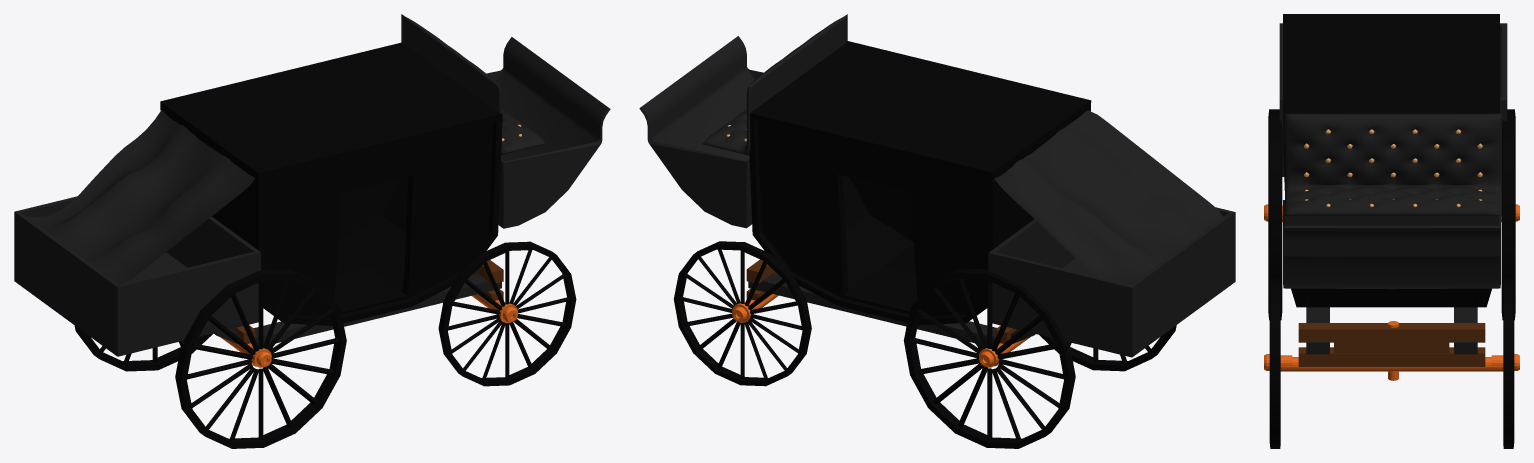
The model's file is Carriage.fbx.
3 views of the same model, side by side, from view 1: azimuth 30°, elevation 25°; view 2: azimuth 150°, elevation 25°; view 3: azimuth 270°, elevation 25° (orthographic). The views are drawn at different scales.
Visible parts, largest first — view 1: Carriage, Carriage Bed, Carriage Canvas, Carriage Wheels Back, Carriage Foot Bucket, Carriage Wheels Front, Carriage Seat, Carriage Suspension; view 2: Carriage, Carriage Canvas, Carriage Bed, Carriage Wheels Back, Carriage Foot Bucket, Carriage Wheels Front, Carriage Seat, Carriage Suspension; view 3: Carriage, Carriage Seat, Carriage Foot Bucket, Carriage Wheels Back, Carriage Wheels Front, Carriage Differential, Carriage Axle Strut, Carriage Cam Strut, Carriage Suspension, Carriage Axle.001, Carriage Bed, Carriage Hub Cap (+1 smaller).
Part boxes in pixels (box(x1,y1,x2,y2)): Carriage: box(160, 42, 502, 325); Carriage Bed: box(14, 196, 260, 356); Carriage Canvas: box(27, 110, 254, 284); Carriage Wheels Back: box(74, 269, 346, 448); Carriage Foot Bucket: box(486, 37, 610, 228); Carriage Wheels Front: box(438, 241, 576, 386); Carriage Seat: box(401, 14, 546, 154); Carriage Suspension: box(214, 273, 501, 345); Carriage: box(749, 41, 1091, 325); Carriage Canvas: box(994, 110, 1223, 284); Carriage Bed: box(988, 207, 1235, 357); Carriage Wheels Back: box(903, 268, 1176, 448); Carriage Foot Bucket: box(639, 36, 763, 228); Carriage Wheels Front: box(673, 241, 811, 386); Carriage Seat: box(702, 14, 847, 155); Carriage Suspension: box(748, 273, 1035, 345); Carriage: box(1283, 14, 1499, 307); Carriage Seat: box(1285, 113, 1501, 215); Carriage Foot Bucket: box(1283, 200, 1500, 289); Carriage Wheels Back: box(1268, 109, 1515, 320); Carriage Wheels Front: box(1269, 279, 1514, 448); Carriage Differential: box(1298, 323, 1485, 342); Carriage Axle Strut: box(1298, 347, 1485, 366); Carriage Cam Strut: box(1334, 340, 1449, 353); Carriage Suspension: box(1306, 307, 1477, 354); Carriage Axle.001: box(1280, 357, 1503, 371); Carriage Bed: box(1279, 23, 1507, 176); Carriage Hub Cap: box(1264, 354, 1519, 370).
Size of the model in its own units: 581 by 333 by 236.
